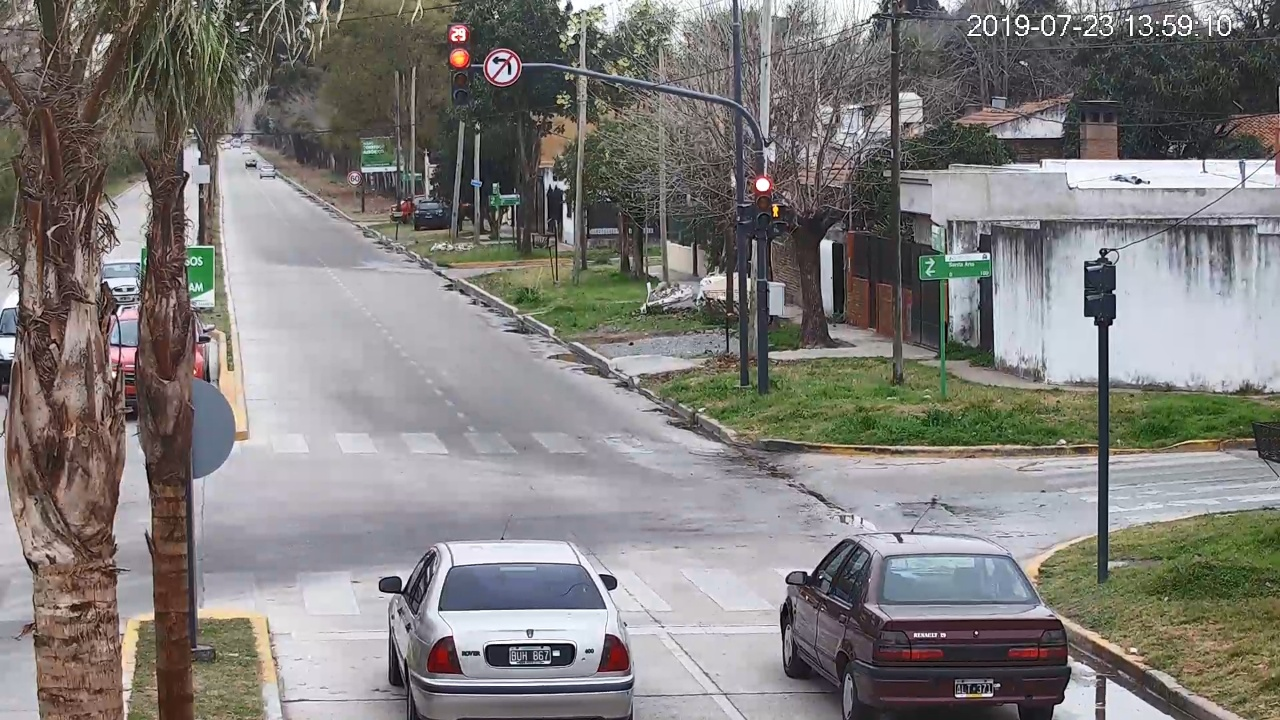car: (781, 531, 1072, 720), (379, 540, 636, 720)
traffic light: (450, 47, 471, 105), (752, 177, 773, 230)
